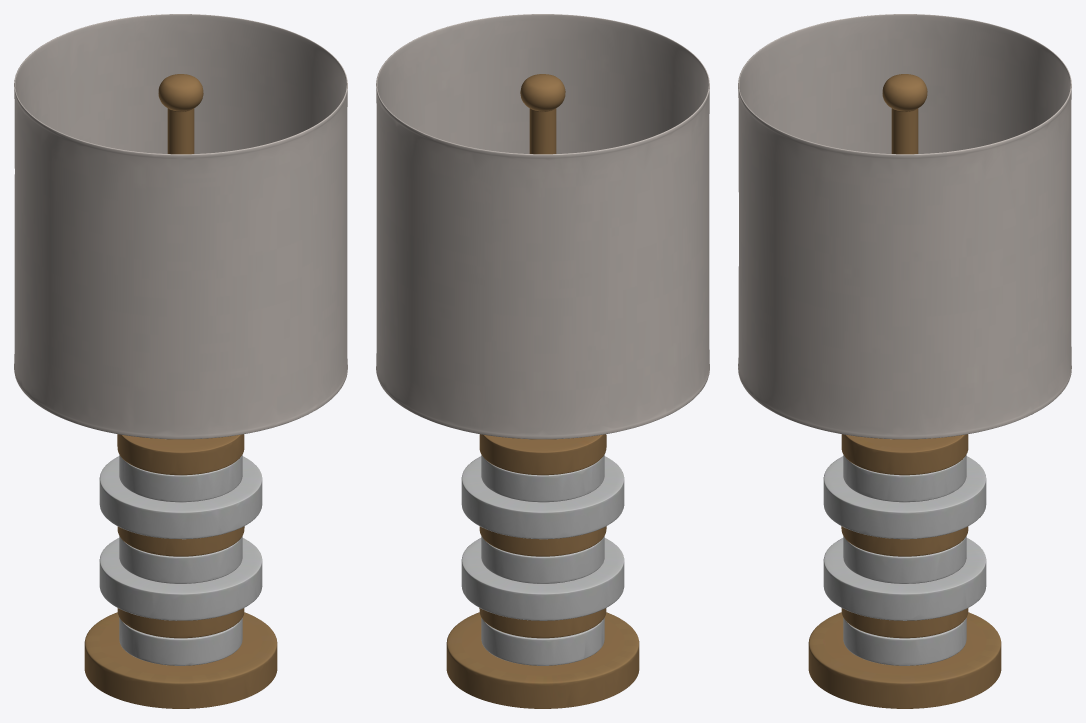
File: abo-B075X2FW7P.glb
3 views of the same model, side by side, from view 1: azimuth 30°, elevation 25°; view 2: azimuth 150°, elevation 25°; view 3: azimuth 270°, elevation 25° (orthographic).
Bounding box in the file's own units: 0.21 × 0.41 × 0.2099.
Materials: 1 (1 with a texture image).
